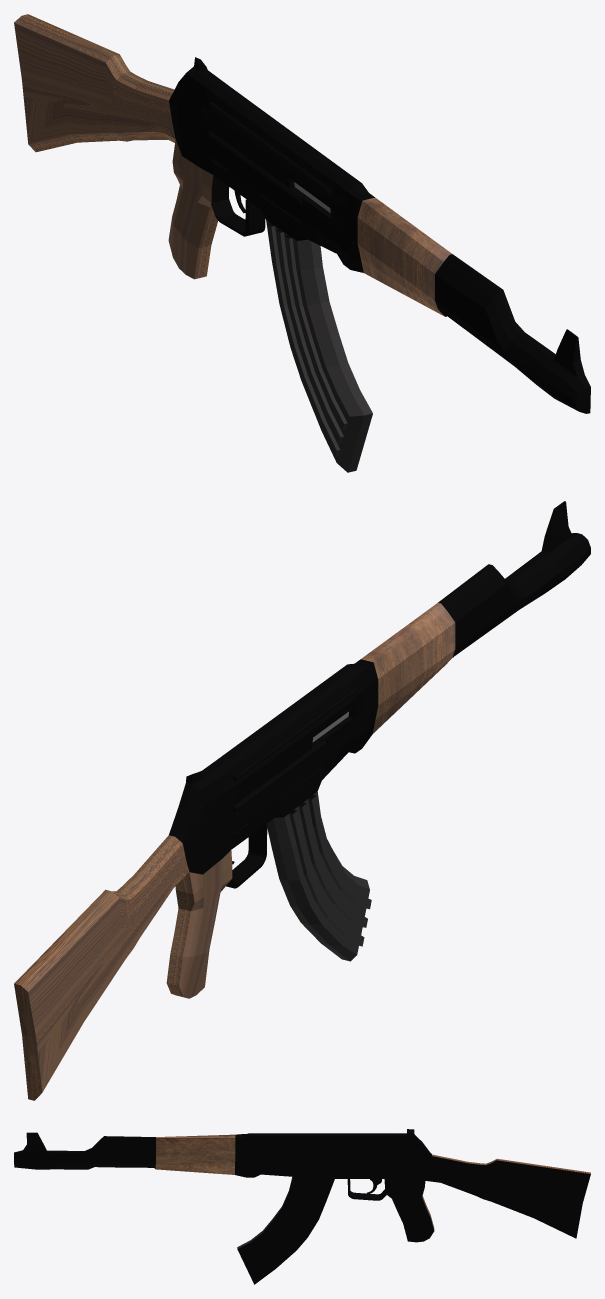
The picture shows the model from 3 angles, top to bottom: view 1: azimuth 30°, elevation 25°; view 2: azimuth 150°, elevation 25°; view 3: azimuth 270°, elevation 25°; orthographic projection. The views are drawn at different scales.
Parts seen in each view (by area): view 1: AK47; view 2: AK47; view 3: AK47.
Boxes of the visible parts, x1,y1,x2,y2 form: AK47: (14, 14, 590, 472); AK47: (14, 501, 590, 1100); AK47: (14, 1129, 590, 1284).
Bounding box in the file's own units: 0.1169 × 1.4 × 4.76.
Materials: 4 (1 with a texture image).
